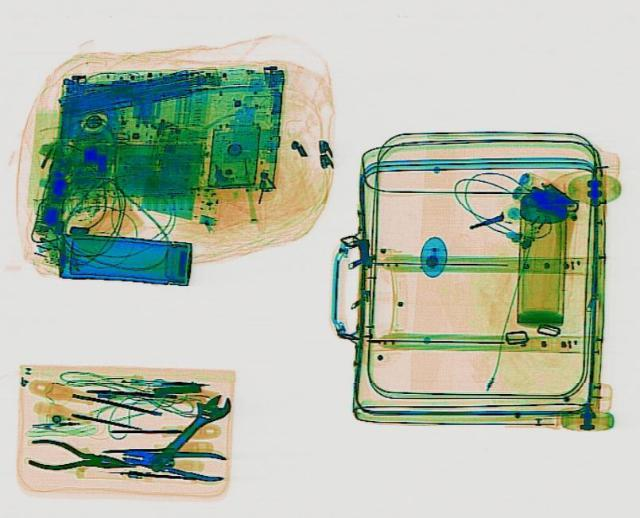Pliers: (22, 433, 136, 479), (118, 438, 228, 480)
Wrench: (137, 385, 237, 474)
